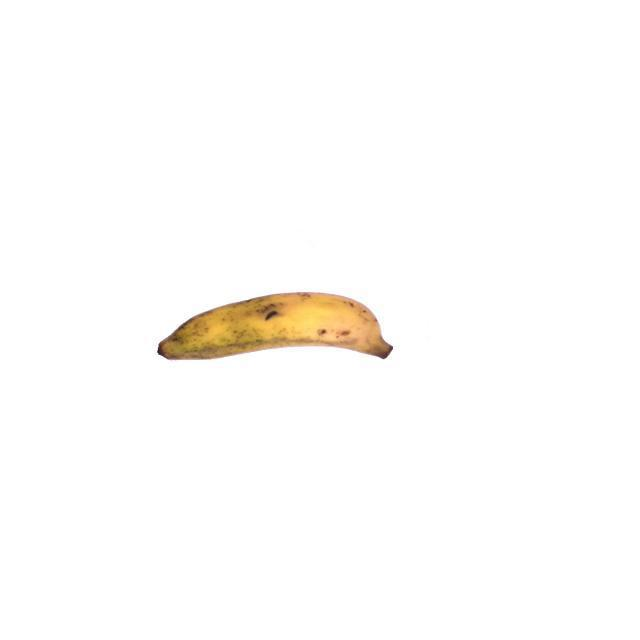Banana: (153, 290, 397, 364)
